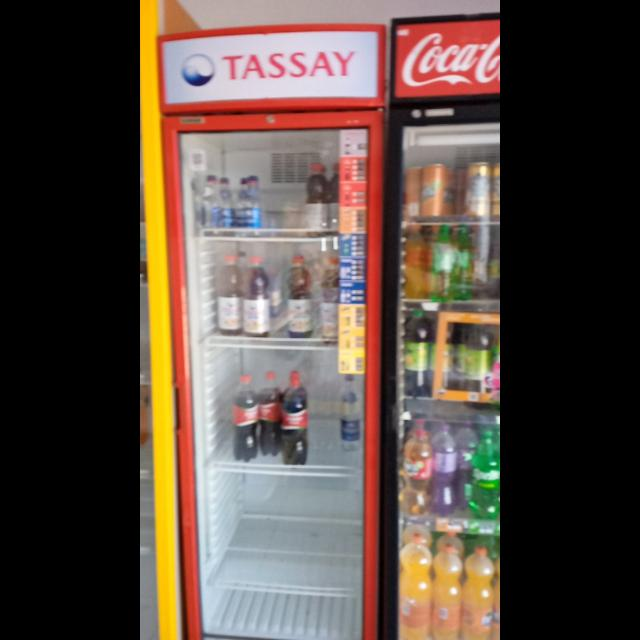Cooling-Display: (155, 22, 385, 640)
